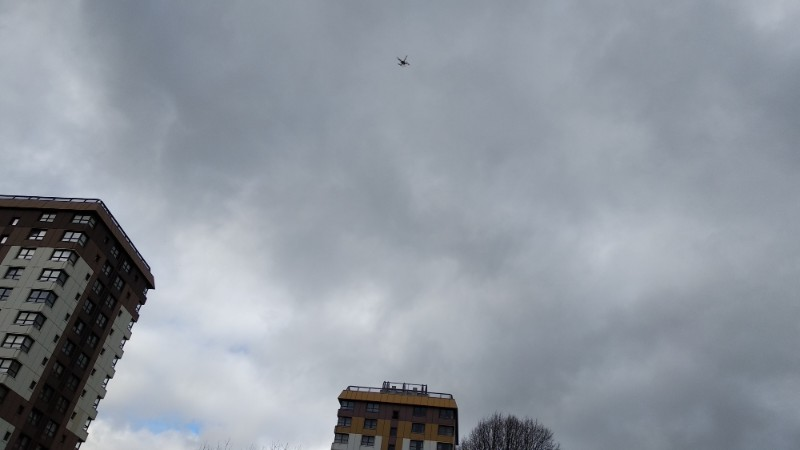drone: (396, 56, 411, 67)
